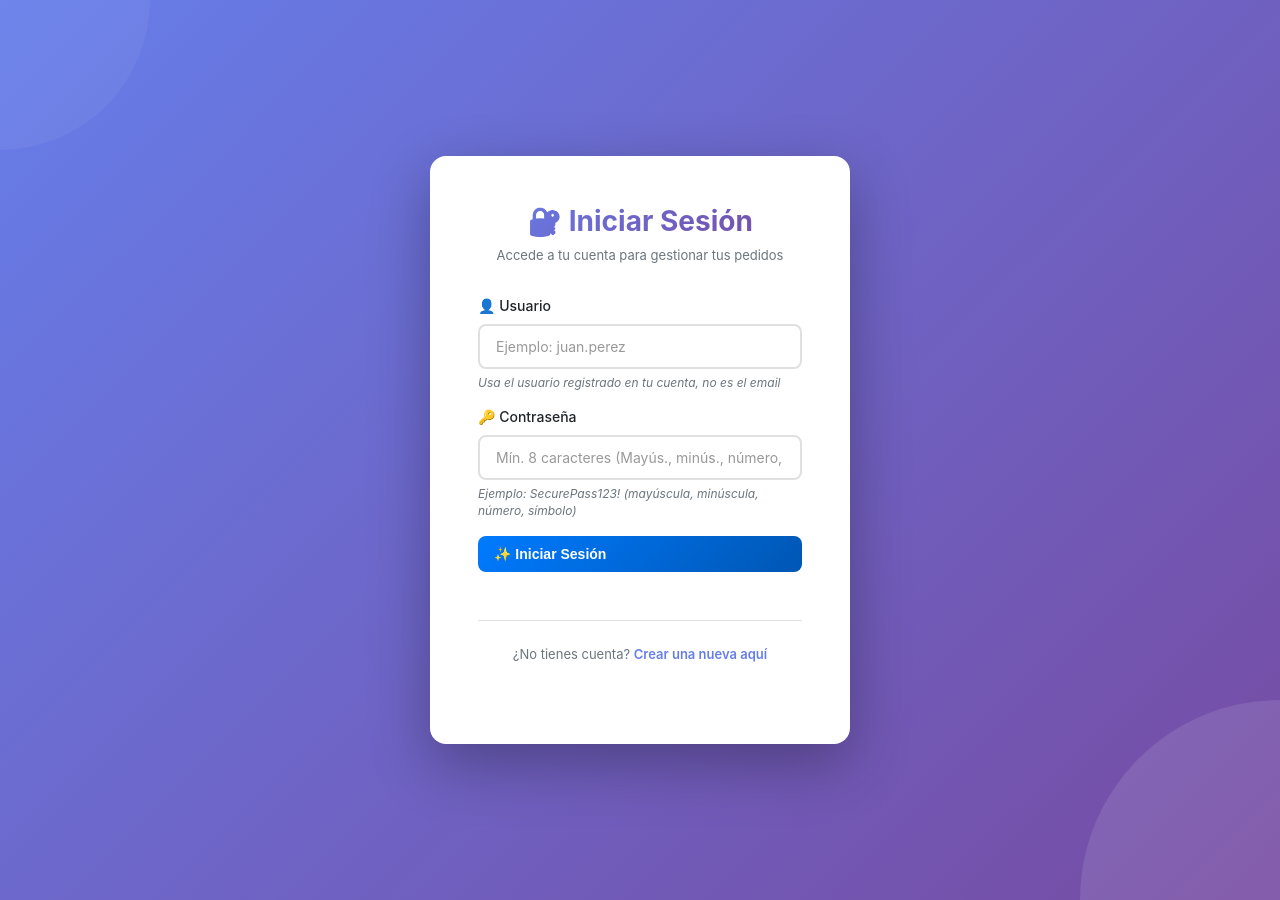
Login Component › should clear validation error when user types
Step 1. Click the button "✨ Iniciar Sesión" → (550, 554), box x1=478 y1=536 x2=802 y2=572
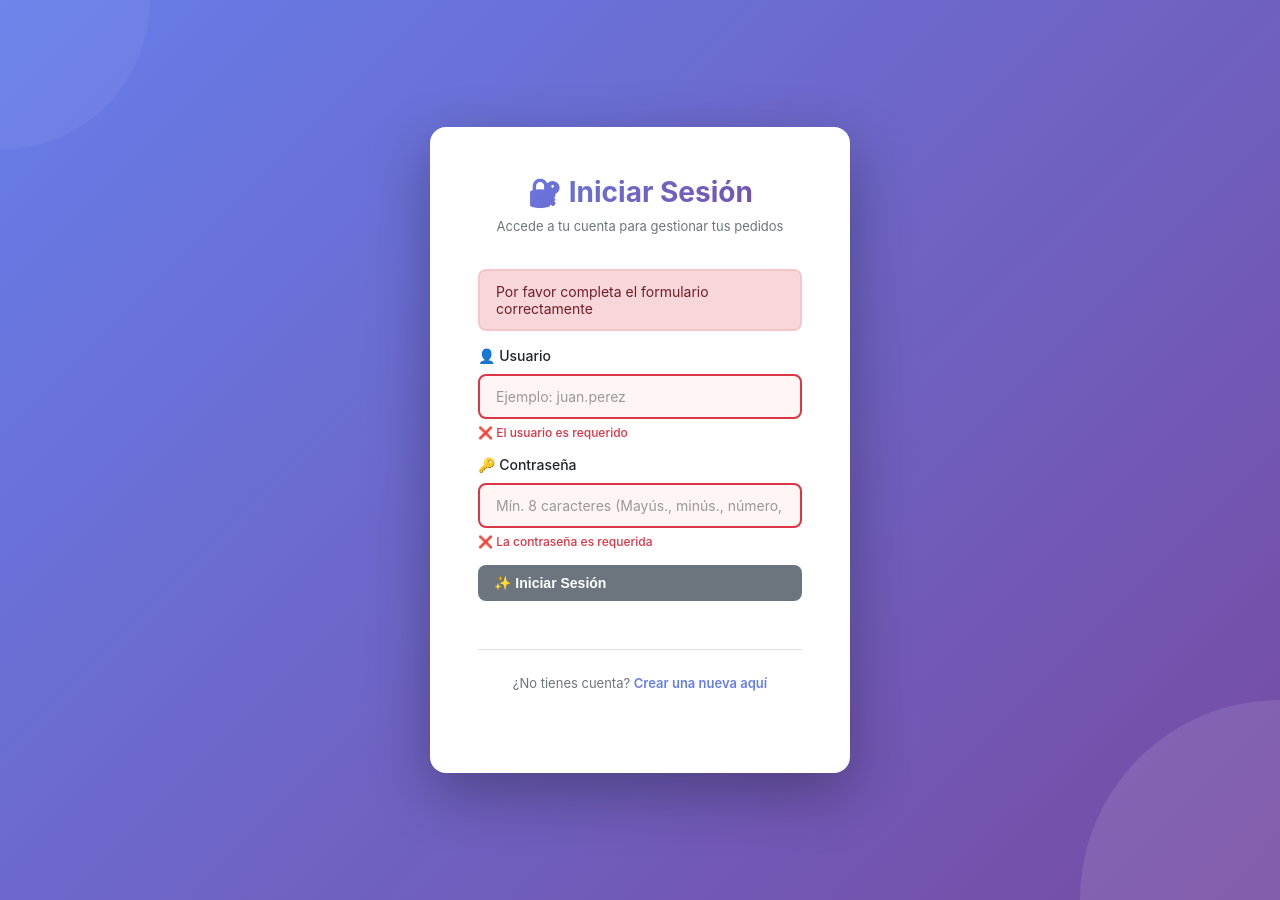
Now the text "❌ El usuario es requerido" is shown, box x1=478 y1=424 x2=628 y2=440
Step 2. Type "testuser" into the field labelled "👤 Usuario" → (640, 396), box x1=478 y1=374 x2=802 y2=418
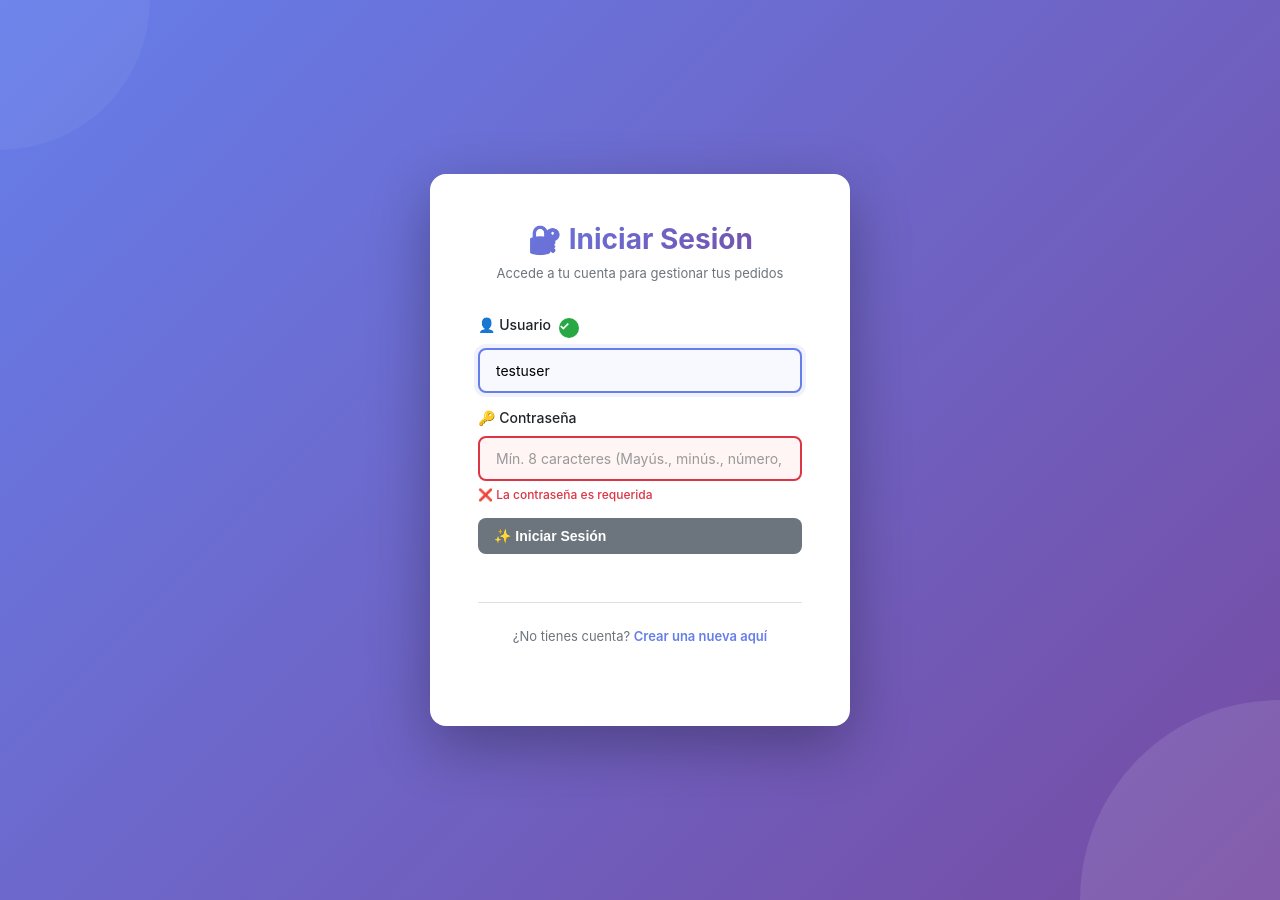
Now the text "❌ El usuario es requerido" is gone
